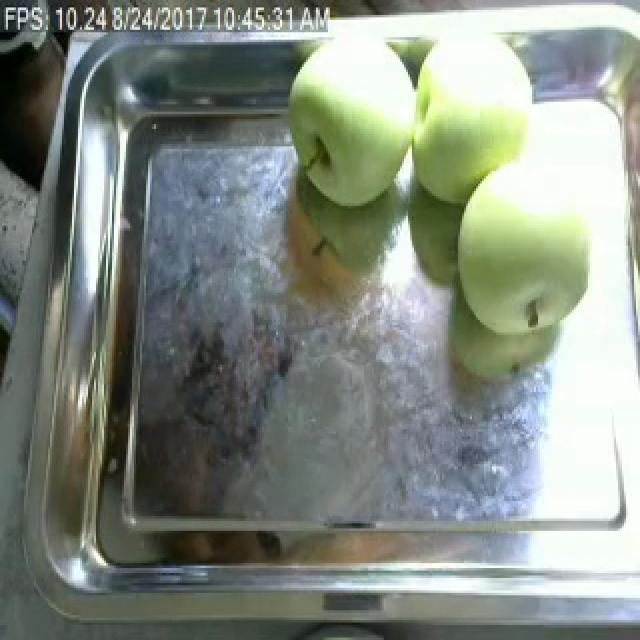50-_ripeness: (411, 19, 562, 205), (462, 167, 603, 352), (286, 31, 420, 225)
